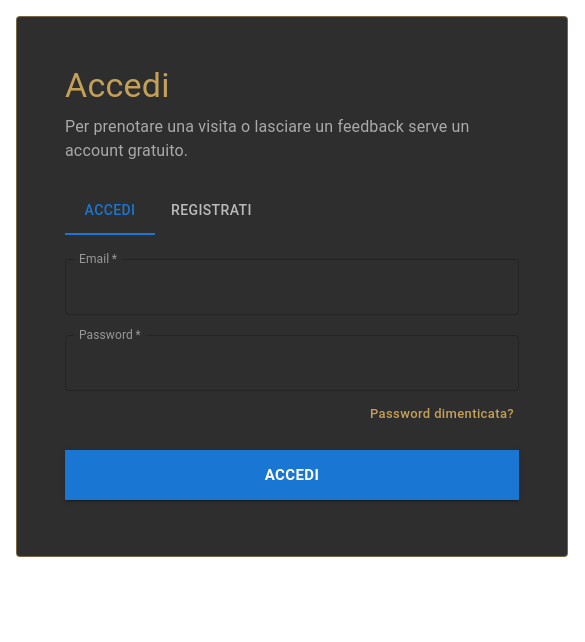
Test: Accedi › login errato: mostra l'errore e non salva nulla
Type "mario@test.it" into the field labelled "Email *" at coordinates (292, 287), box [65,259,519,315]
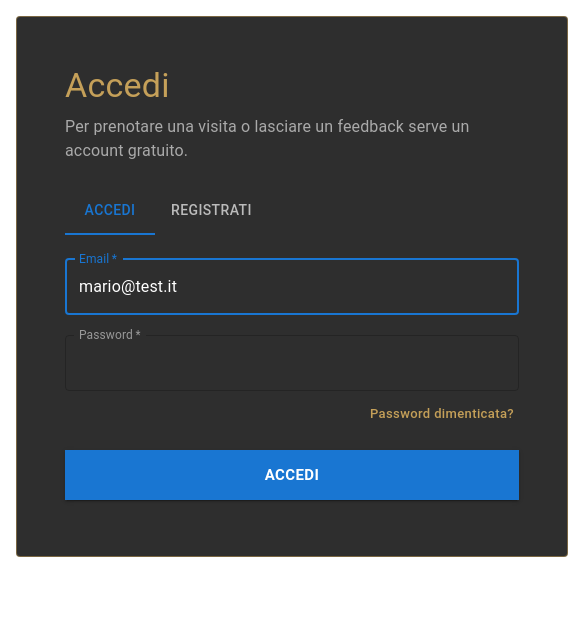
Type "sbagliata" into the password field labelled "Password *" at coordinates (292, 363), box [65,335,519,391]
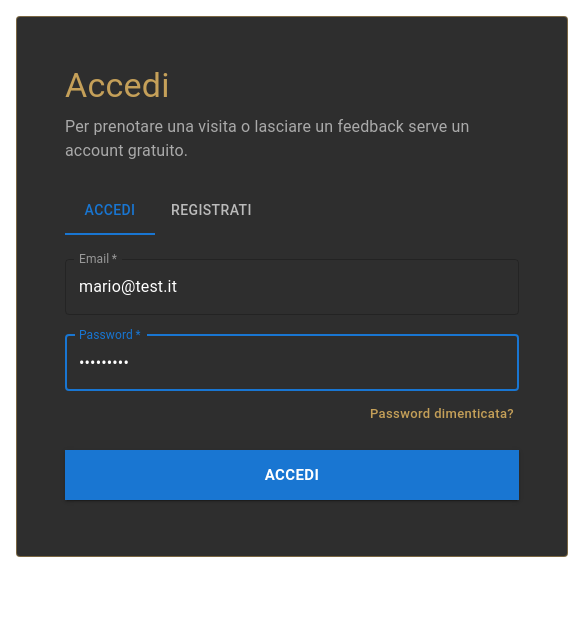
Click the button "ACCEDI" at coordinates (292, 475), box [65,450,519,500]
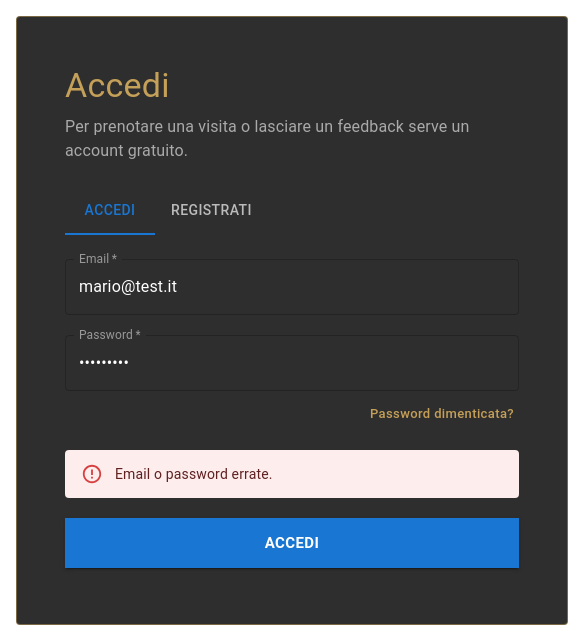
Check: the message reads "Email o password errate.", box [115,466,273,482]
